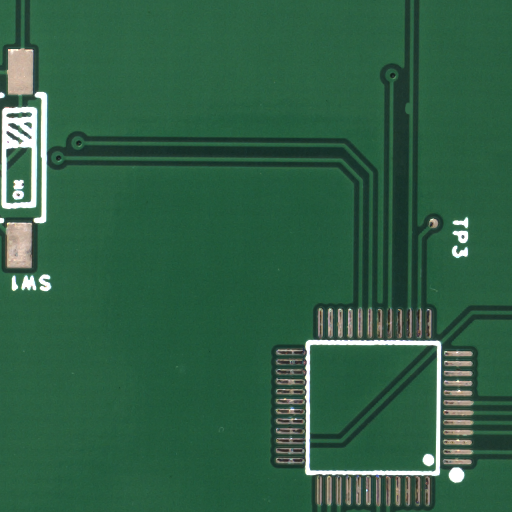Spur: (407, 107, 414, 122)
